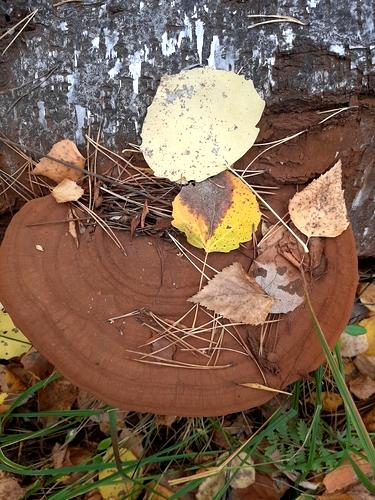Ganoderma - Fruit Body: (0, 190, 356, 416)
